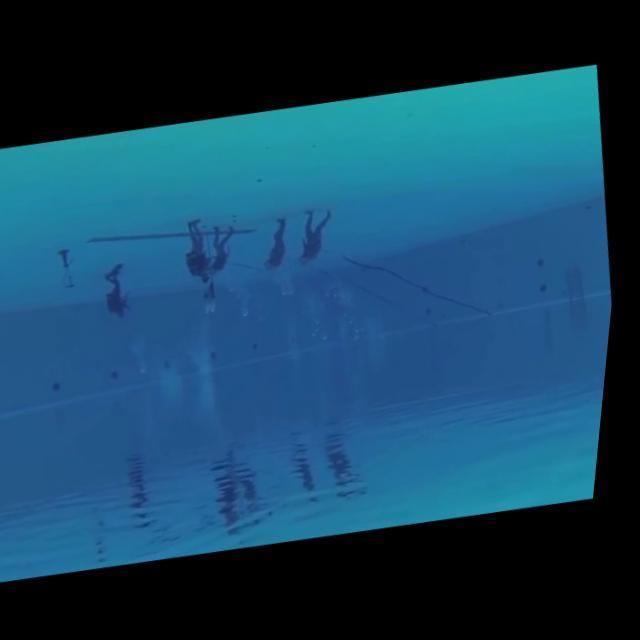human: (283, 199, 353, 274), (177, 211, 228, 291), (199, 216, 252, 287), (255, 209, 307, 279), (99, 255, 148, 326)
